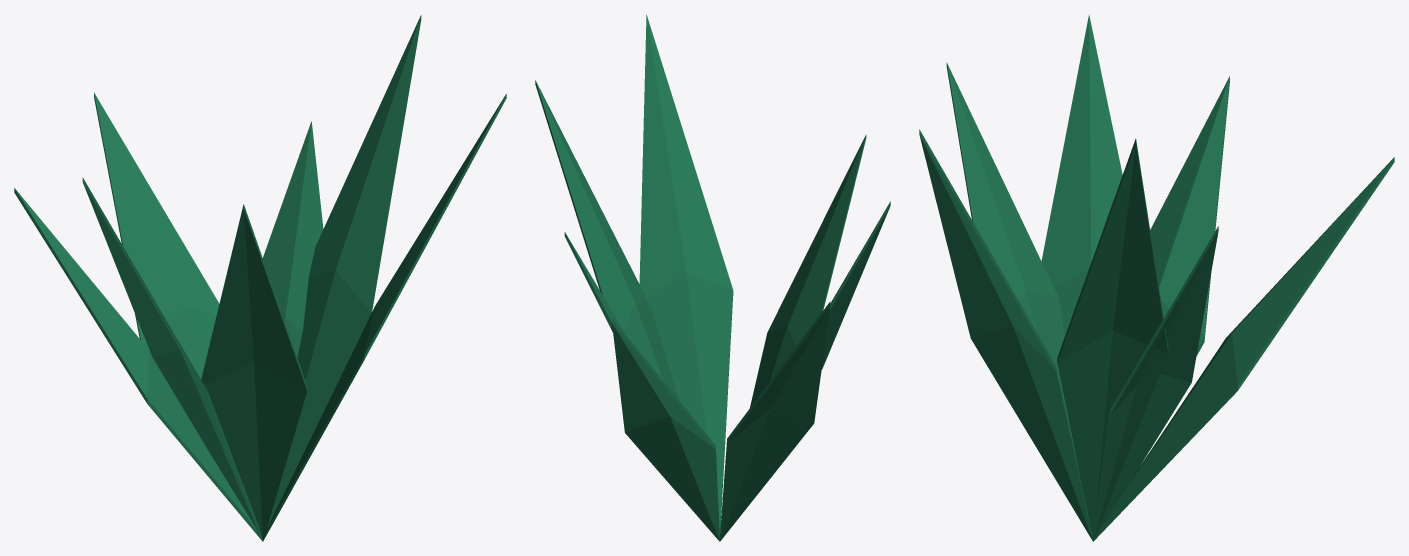
3 views of the same model, side by side, from view 1: azimuth 30°, elevation 25°; view 2: azimuth 150°, elevation 25°; view 3: azimuth 270°, elevation 25° (orthographic). The views are drawn at different scales.
Visible parts, largest first — view 1: 完整草丛_3.001; view 2: 完整草丛_3.001; view 3: 完整草丛_3.001.
Boxes of the visible parts, x1,y1,x2,y2 form: 完整草丛_3.001: [14, 15, 506, 541]; 完整草丛_3.001: [535, 14, 890, 541]; 完整草丛_3.001: [919, 14, 1394, 541].
Bounding box in the file's own units: 0.2955 × 0.3658 × 0.3175.
